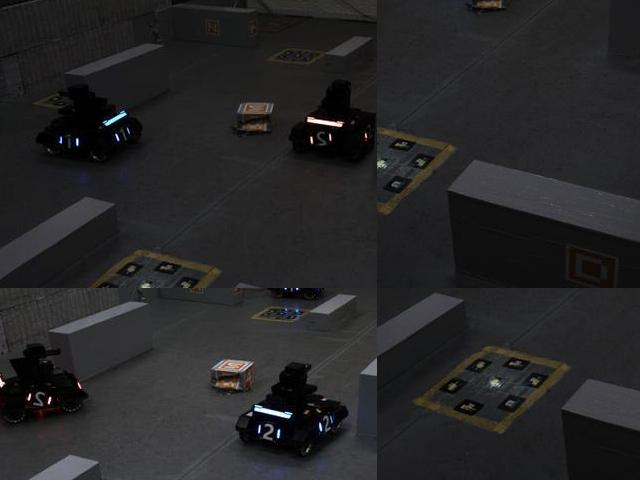armor: (251, 418, 284, 448), (53, 129, 85, 155), (26, 388, 59, 410), (307, 128, 336, 153), (312, 410, 336, 438), (110, 123, 133, 147), (359, 123, 376, 145), (280, 288, 302, 297)
